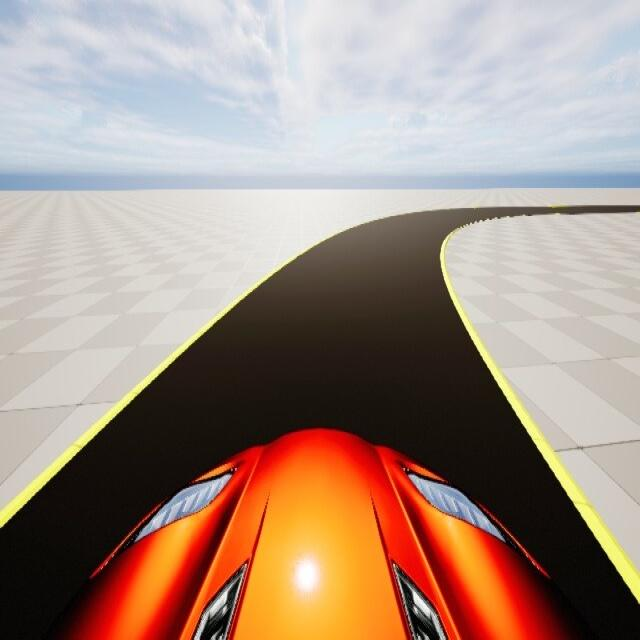lane: (0, 209, 639, 639)
